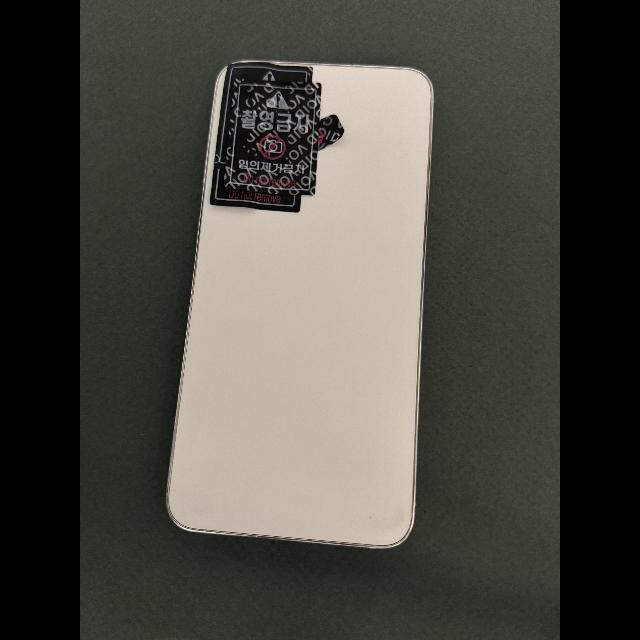phone: (167, 55, 434, 548)
sticker: (209, 62, 313, 212), (224, 78, 321, 195), (319, 113, 344, 152)
